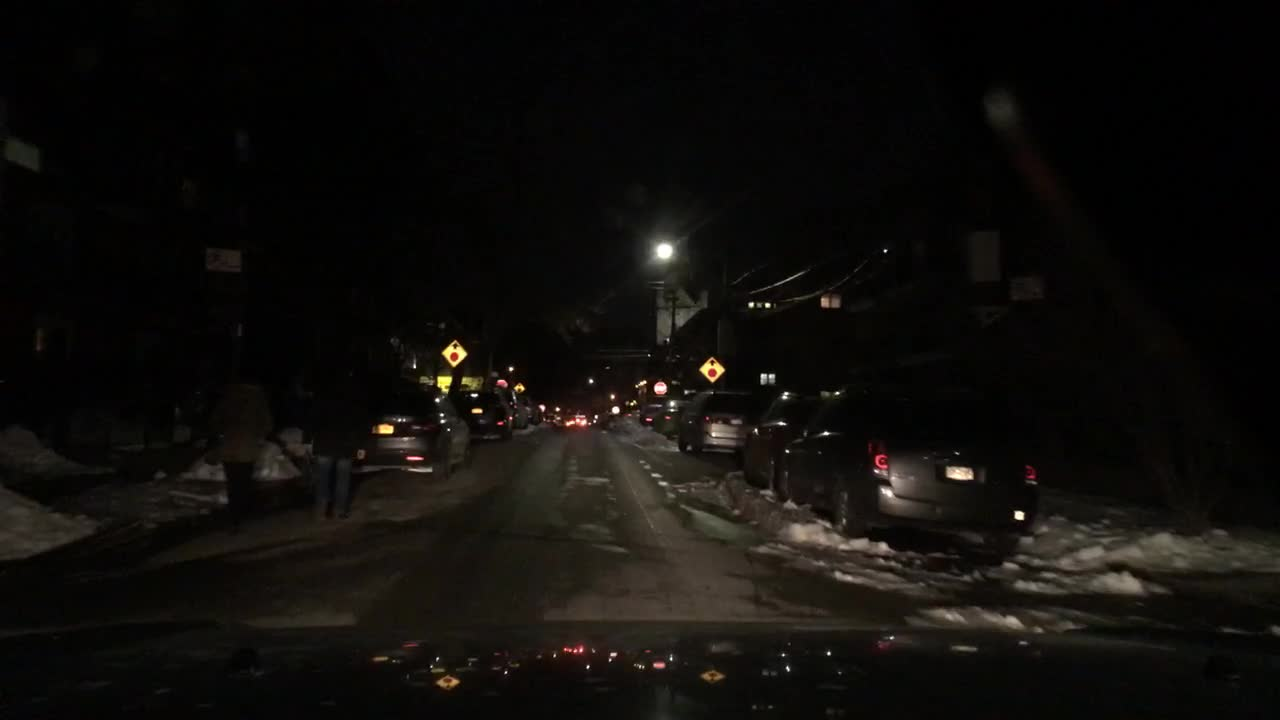car: (767, 377, 1041, 561), (352, 378, 479, 483), (740, 387, 840, 492), (674, 387, 761, 455), (444, 387, 521, 442), (647, 395, 697, 435), (502, 391, 535, 430), (518, 393, 546, 426), (635, 399, 665, 427), (574, 410, 591, 429), (543, 413, 558, 425)
person: (196, 348, 274, 529), (292, 360, 372, 524)
traffic sign: (697, 354, 728, 385), (208, 248, 246, 272), (438, 339, 468, 366), (652, 380, 669, 395), (512, 380, 526, 393)
